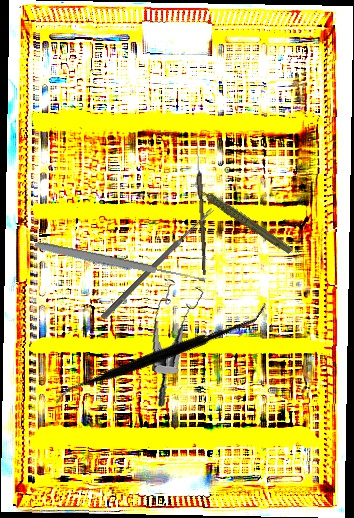Handpiece: (191, 162, 295, 272), (33, 219, 151, 300)
Spatula Surgical: (53, 236, 268, 470)
Speculum: (138, 272, 220, 409)
Surgical Spoon: (100, 206, 215, 321), (36, 240, 207, 286), (193, 136, 209, 276)
